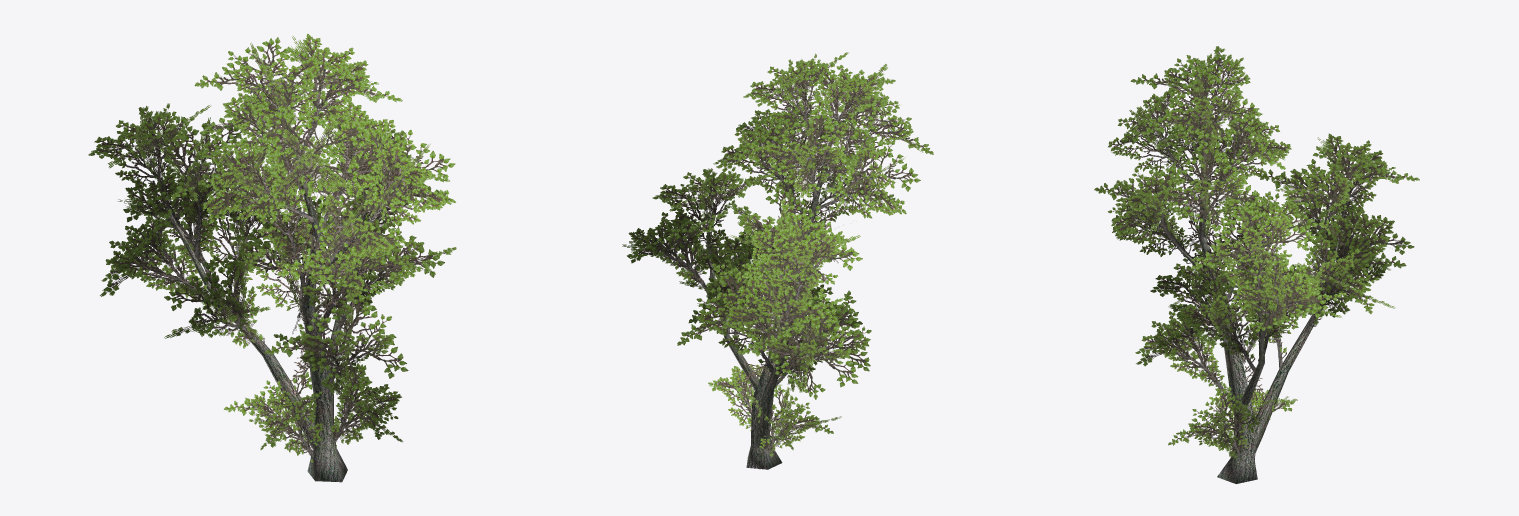
File: poplar-3.glb
3 renders of one model, left to right at view 1: azimuth 30°, elevation 25°; view 2: azimuth 150°, elevation 25°; view 3: azimuth 270°, elevation 25°, orthographic. The views are drawn at different scales.
Parts seen in each view (by area): view 1: poplar-3; view 2: poplar-3; view 3: poplar-3.
Boxes of the visible parts, bbox=[...] form: poplar-3: bbox=[88, 34, 456, 482]; poplar-3: bbox=[622, 52, 933, 469]; poplar-3: bbox=[1094, 46, 1419, 483].
Size of the model in its own units: 19.42 by 21.74 by 22.54.
1 material, 1 textured.
